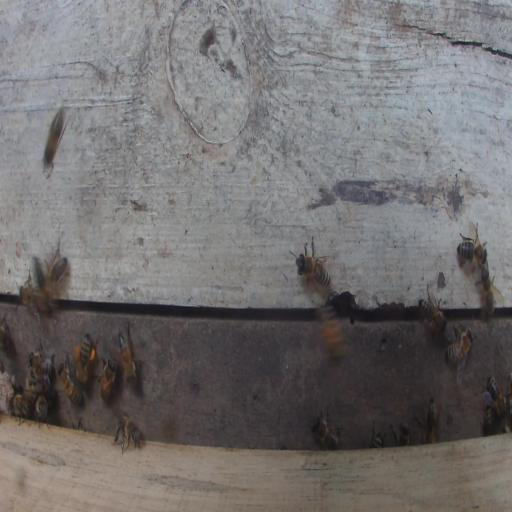bee: (291, 236, 331, 288), (21, 269, 55, 317), (43, 106, 66, 173), (418, 284, 448, 335), (445, 326, 474, 377), (118, 322, 138, 386), (113, 411, 142, 455), (311, 409, 342, 450), (58, 361, 83, 407), (46, 238, 69, 286), (76, 332, 95, 387), (486, 375, 507, 418), (99, 357, 117, 403), (487, 376, 506, 417), (28, 351, 55, 378), (10, 393, 33, 423), (457, 242, 487, 265), (481, 268, 495, 316), (425, 396, 438, 444), (34, 393, 49, 423), (483, 405, 497, 435), (394, 422, 410, 446), (484, 404, 496, 436), (1, 316, 11, 350), (370, 431, 386, 447)
